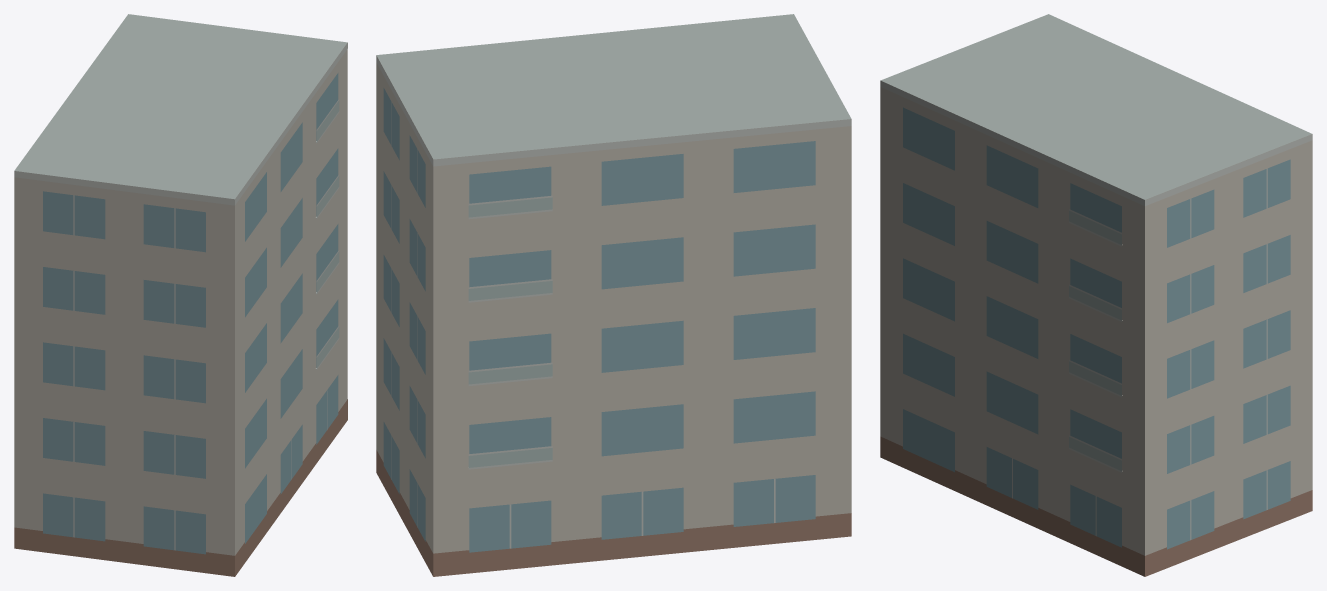
File: survey-upis-32888627.glb
3 renders of one model, left to right at view 1: azimuth 30°, elevation 25°; view 2: azimuth 150°, elevation 25°; view 3: azimuth 270°, elevation 25°, orthographic. The views are drawn at different scales.
Visible parts, largest first — view 1: survey-upis-32888627.tmp; view 2: survey-upis-32888627.tmp; view 3: survey-upis-32888627.tmp.
Part boxes in pixels (bbox=[...]): survey-upis-32888627.tmp: bbox=[14, 14, 347, 576]; survey-upis-32888627.tmp: bbox=[376, 14, 851, 576]; survey-upis-32888627.tmp: bbox=[880, 14, 1312, 576].
Bounding box in the file's own units: 15.35 × 14.5 × 15.07.
